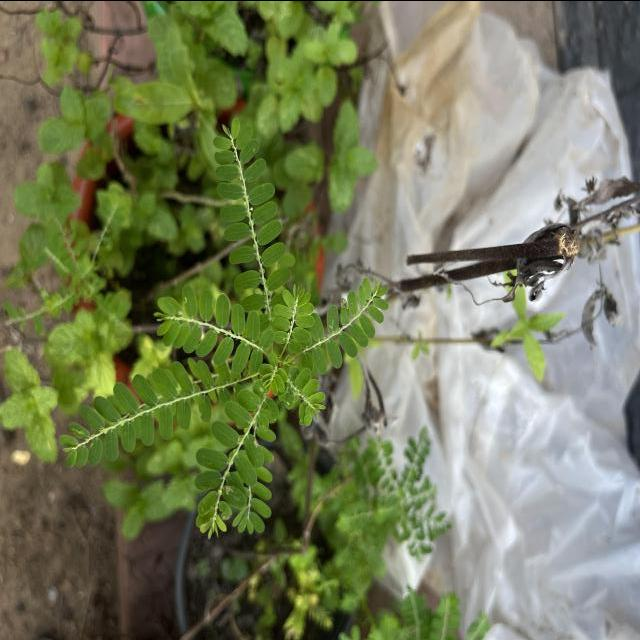Phyllanthus niruri: (59, 362, 213, 469), (211, 114, 293, 292), (194, 385, 278, 541), (155, 285, 276, 379), (306, 272, 396, 372), (270, 282, 318, 360)
